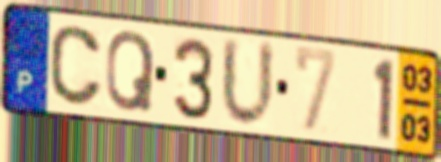1: (370, 55, 397, 143)
3: (171, 35, 217, 122)
7: (292, 44, 342, 138)
C: (48, 23, 106, 110)
Q: (104, 28, 157, 115)
U: (219, 33, 277, 132)
